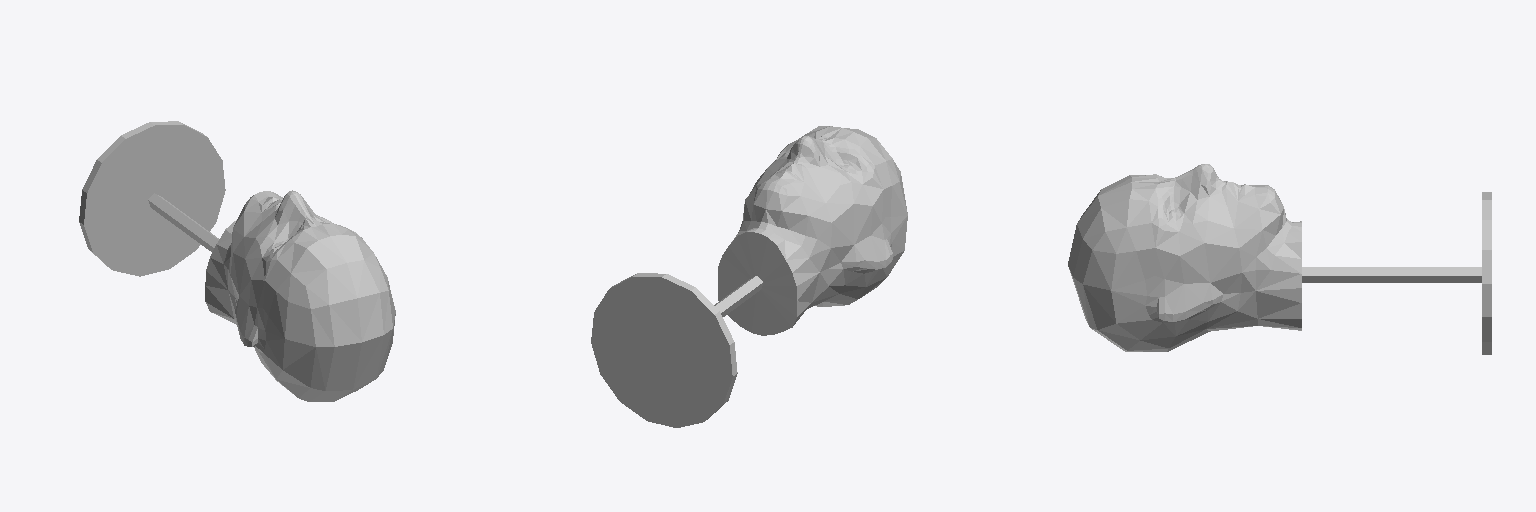
File: doll_head.obj
3 renders of one model, left to right at view 1: azimuth 30°, elevation 25°; view 2: azimuth 150°, elevation 25°; view 3: azimuth 270°, elevation 25°, orthographic.
Parts seen in each view (by area): view 1: doll_head; view 2: doll_head; view 3: doll_head.
Boxes of the visible parts, <box> form: doll_head: <box>79,121,395,401</box>; doll_head: <box>591,126,907,427</box>; doll_head: <box>1068,164,1491,354</box>.
Size of the model in its own units: 11.74 by 14.5 by 30.45.